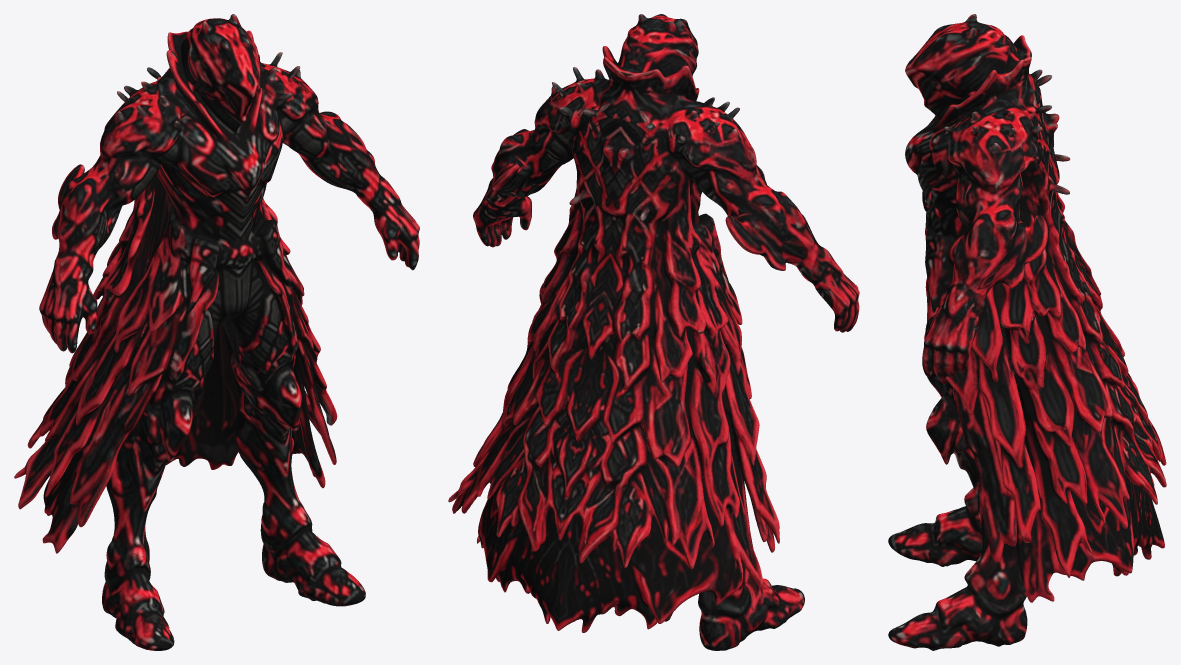
The model's file is drakos_n3.glb.
3 renders of one model, left to right at view 1: azimuth 30°, elevation 25°; view 2: azimuth 150°, elevation 25°; view 3: azimuth 270°, elevation 25°, orthographic. The views are drawn at different scales.
Size of the model in its own units: 1.24 by 1.9 by 0.8193.
Materials: 1 (1 with a texture image).
